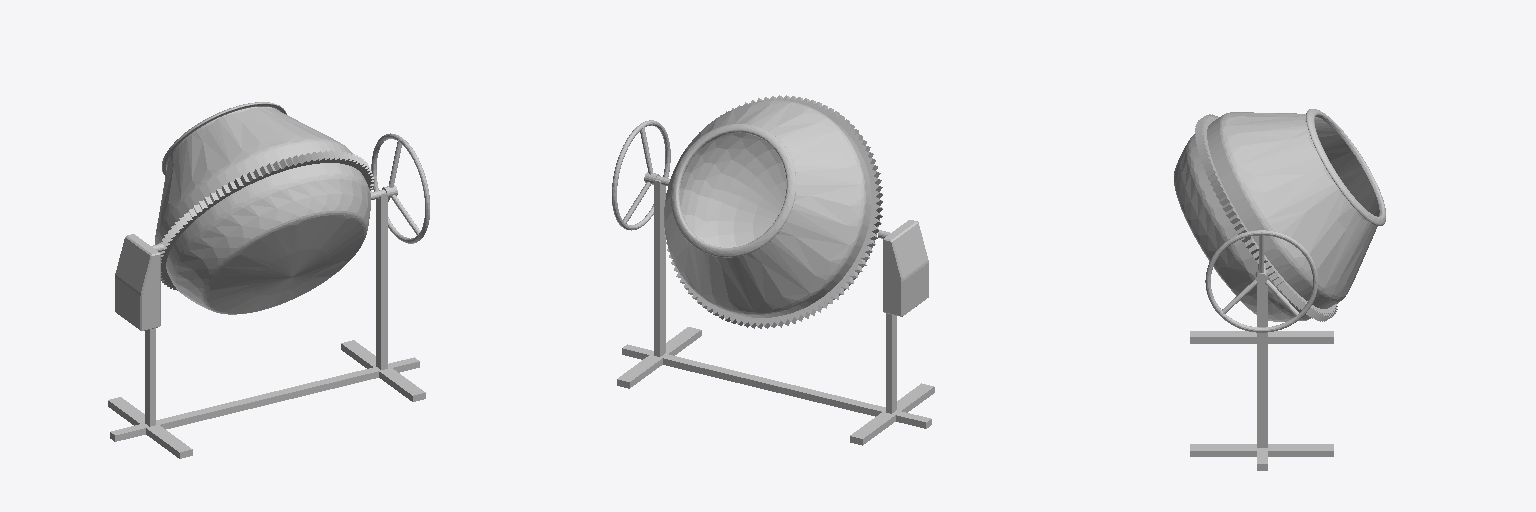
File: Mixer concrete N310116.obj
The picture shows the model from 3 angles: view 1: azimuth 30°, elevation 25°; view 2: azimuth 150°, elevation 25°; view 3: azimuth 270°, elevation 25°; orthographic projection.
Visible parts, largest first — view 1: betonomesh; view 2: betonomesh; view 3: betonomesh.
Boxes of the visible parts, x1,y1,x2,y2 form: betonomesh: [108, 102, 429, 458]; betonomesh: [612, 95, 934, 445]; betonomesh: [1174, 109, 1385, 470].
Size of the model in its own units: 7.78 by 6.86 by 4.71.